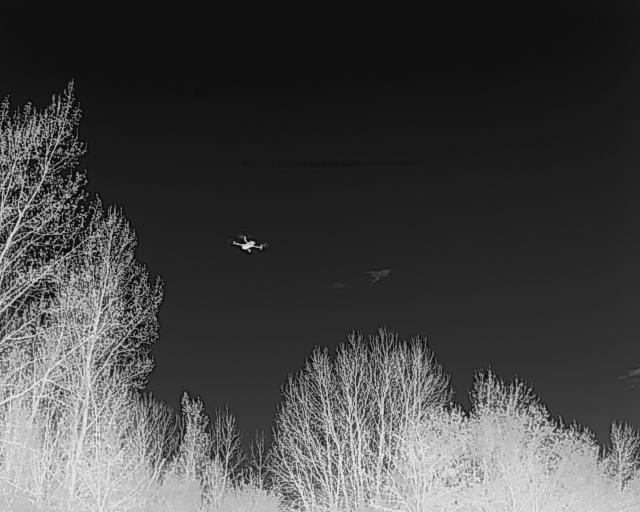drone: (224, 229, 273, 259)
